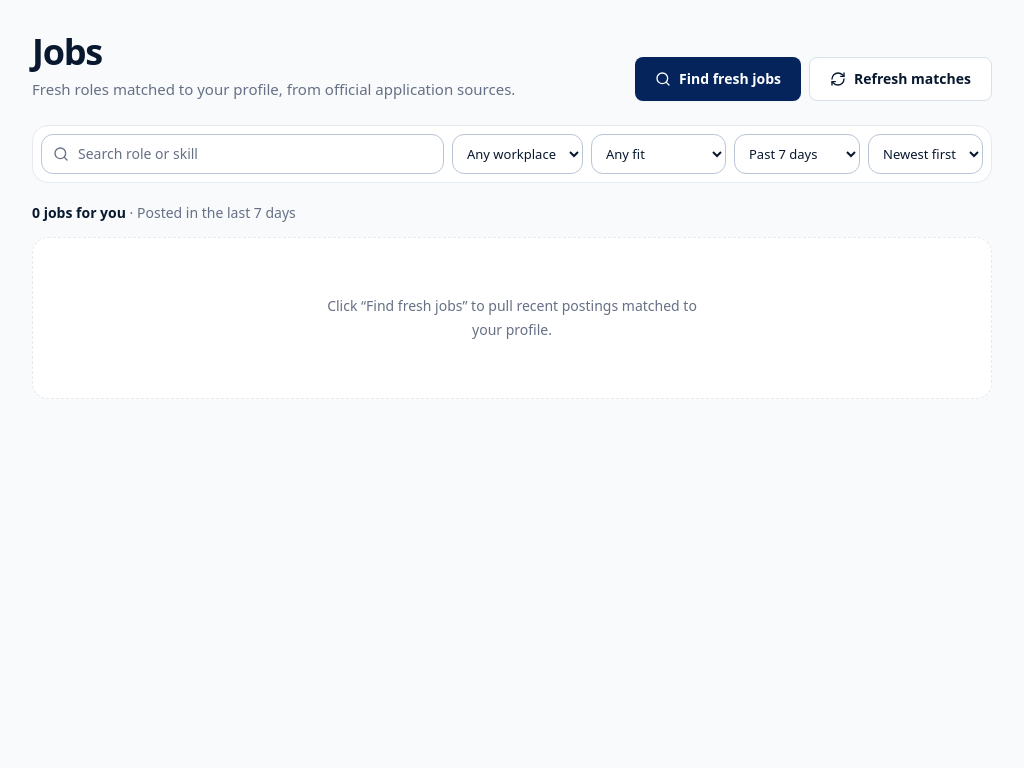
it: JobDiscovery › toggles to edit mode and reflects edits in preview
Click the button "Find fresh jobs".
click(718, 78)  # box [635,56,801,100]
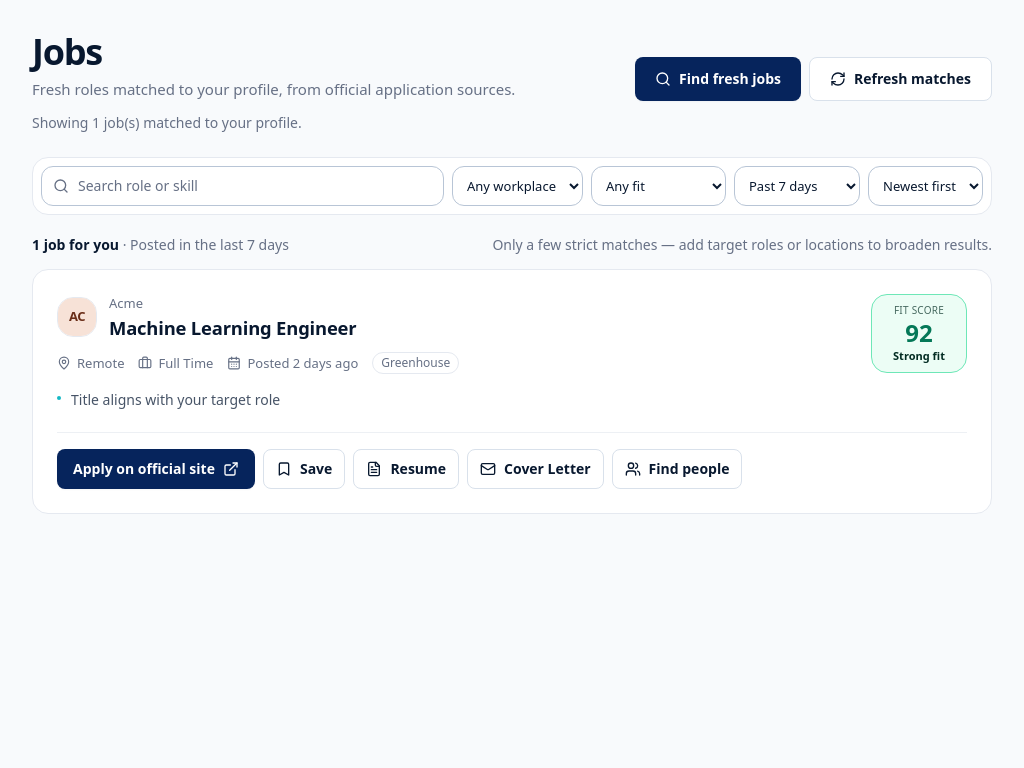
Click the button "Resume".
click(406, 469)  # box [353,449,459,489]
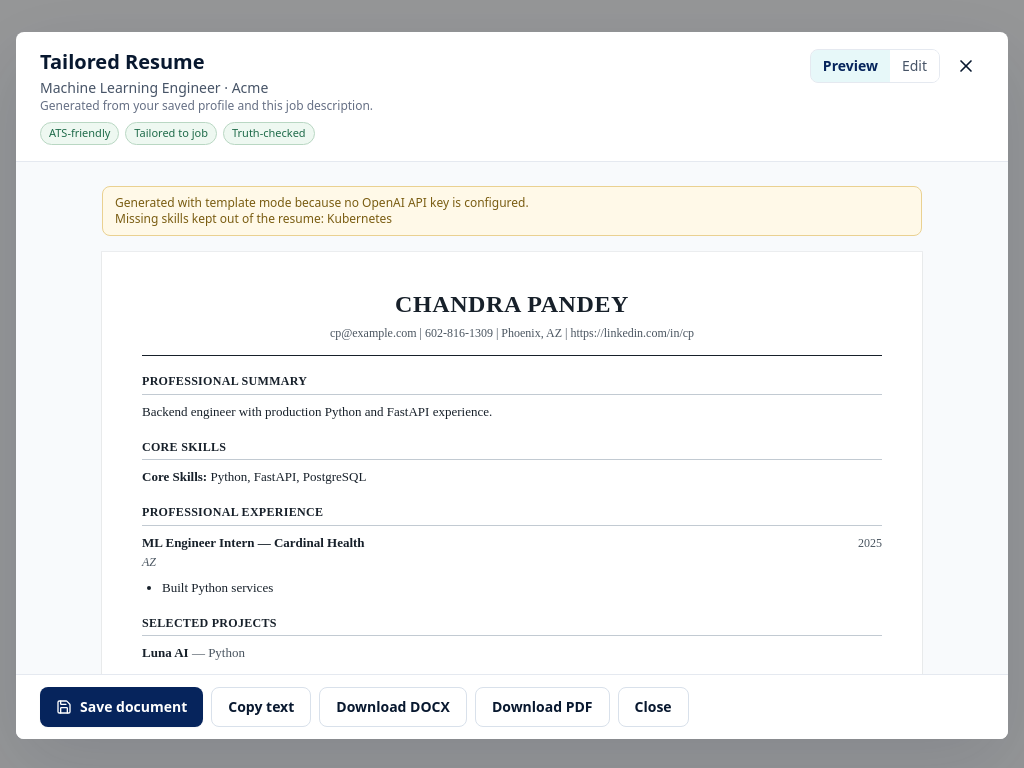
Now the heading "Tailored Resume" is shown, box [40,48,205,75]
Click the button "Edit".
click(914, 66)  # box [890,50,939,82]
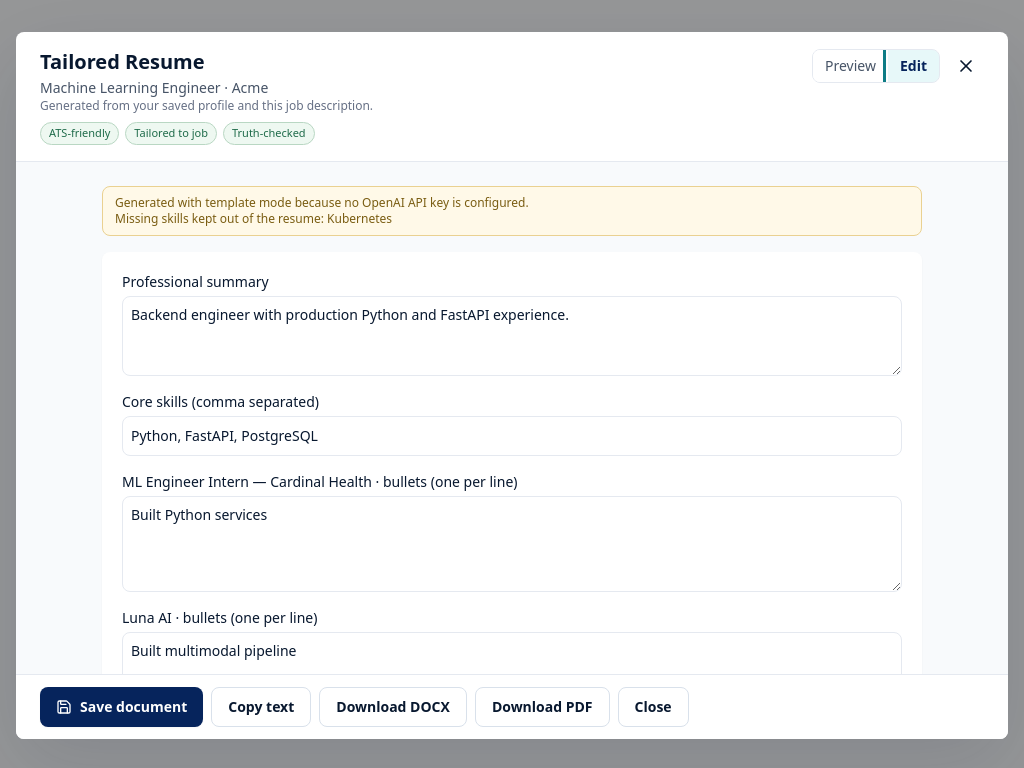
Replace the text in the text box named "Edit summary" with "Edited summary line" at (512, 336), box [122,296,902,376]
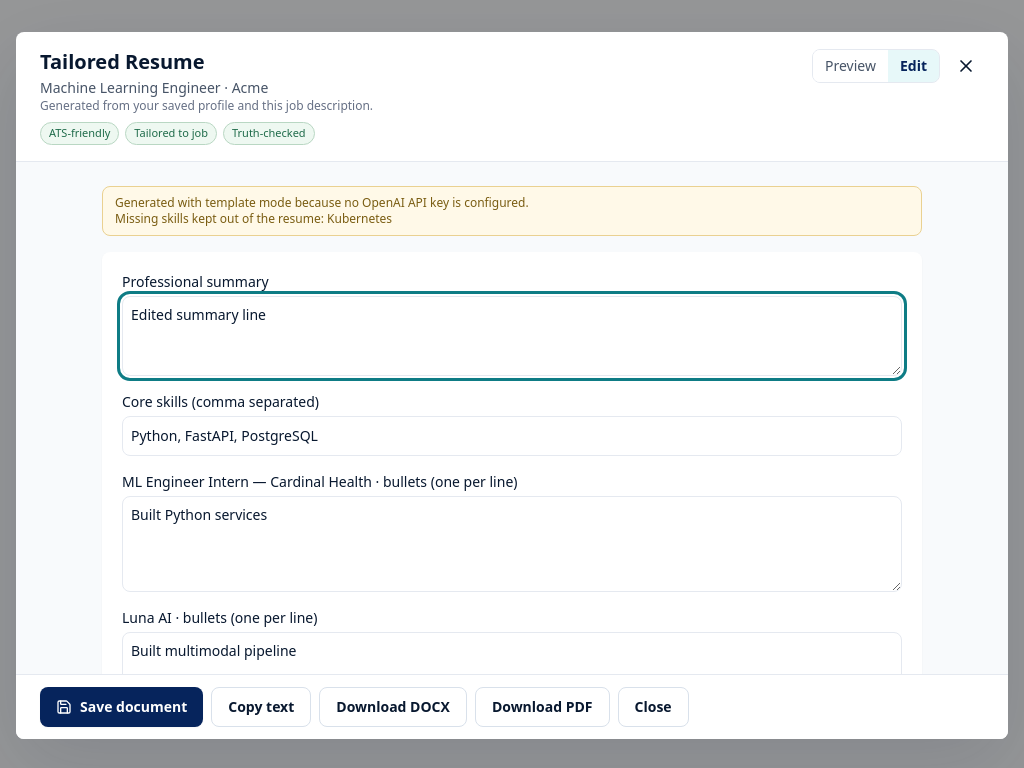
Click the button "Preview".
click(850, 66)  # box [813,50,888,82]
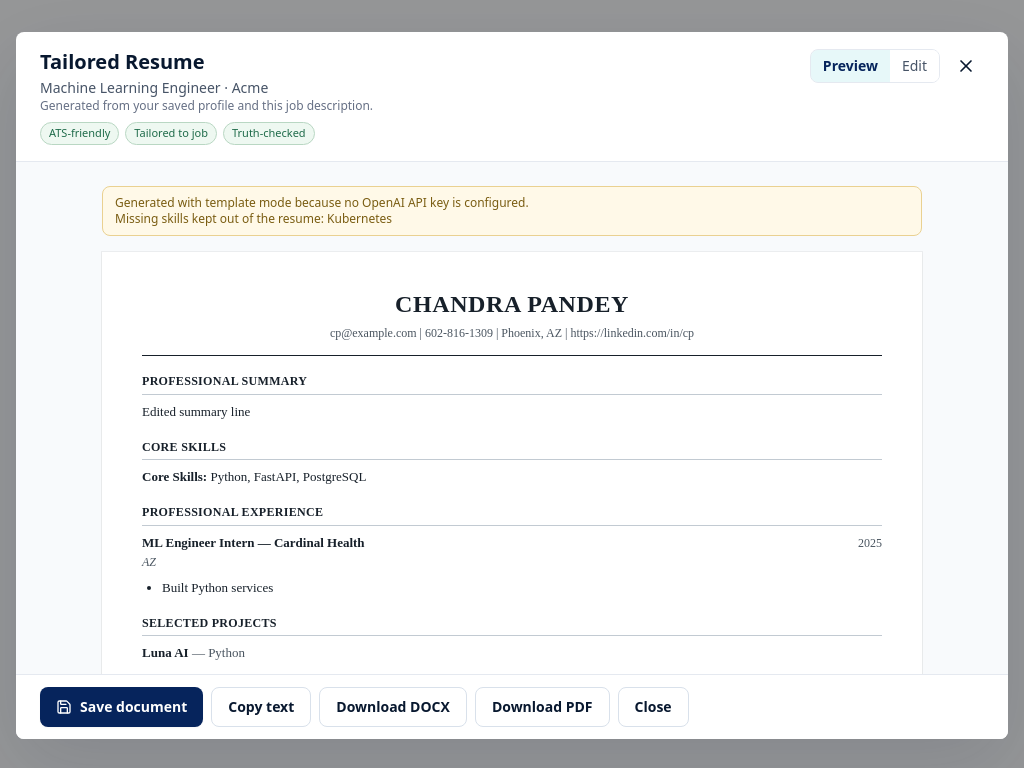
Now the text "Edited summary line" is shown, box [142,404,250,418]
